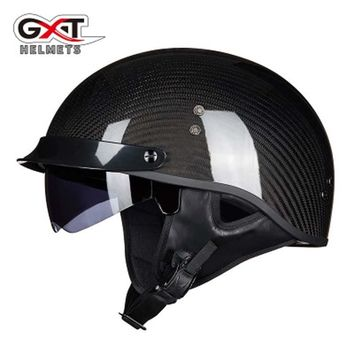with_helmet: (19, 50, 332, 255)
